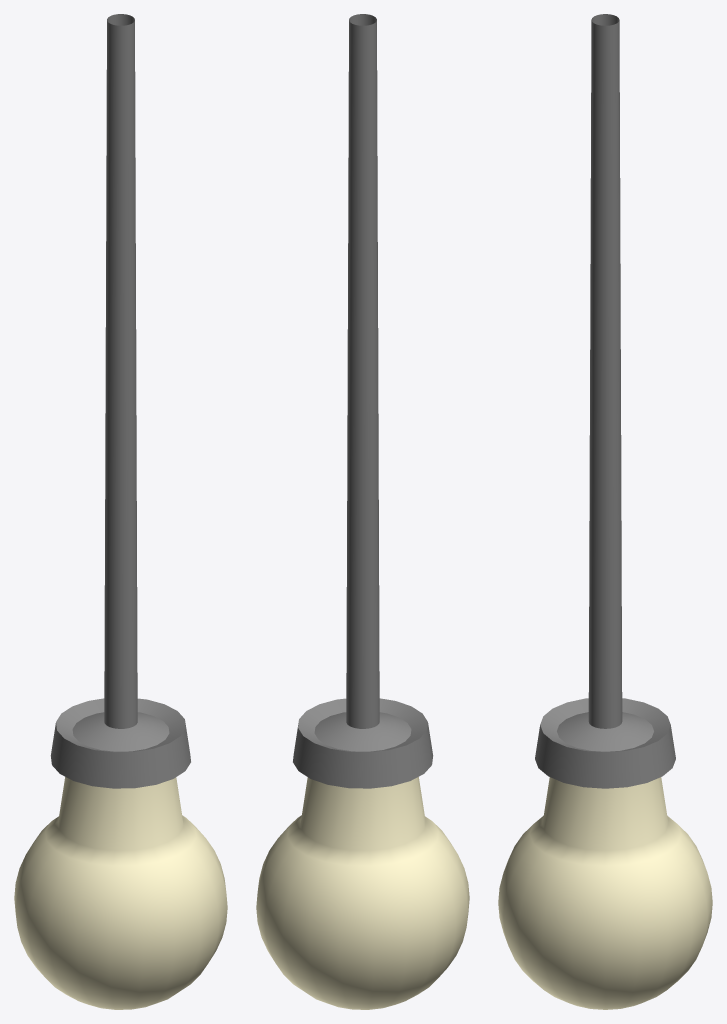
File: lampada.fbx
3 views of the same model, side by side, from view 1: azimuth 30°, elevation 25°; view 2: azimuth 150°, elevation 25°; view 3: azimuth 270°, elevation 25° (orthographic).
Visible parts, largest first — view 1: pSphere4; view 2: pSphere4; view 3: pSphere4.
Part boxes in pixels (x1,y1,x2,y2): pSphere4: [14, 14, 227, 1009]; pSphere4: [256, 14, 469, 1009]; pSphere4: [498, 14, 712, 1009].
Bounding box in the file's own units: 0.3788 × 1.91 × 0.3788.
